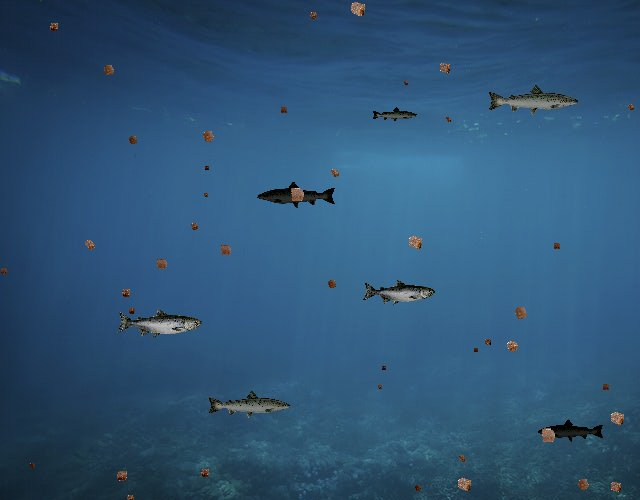Fish: (486, 84, 580, 118), (206, 389, 292, 420), (116, 308, 202, 339), (257, 181, 338, 210), (362, 280, 435, 306), (538, 418, 606, 442), (372, 107, 419, 124)
Pellet: (508, 300, 534, 326), (500, 334, 525, 359), (78, 234, 100, 256), (480, 335, 494, 349), (200, 190, 210, 200)
